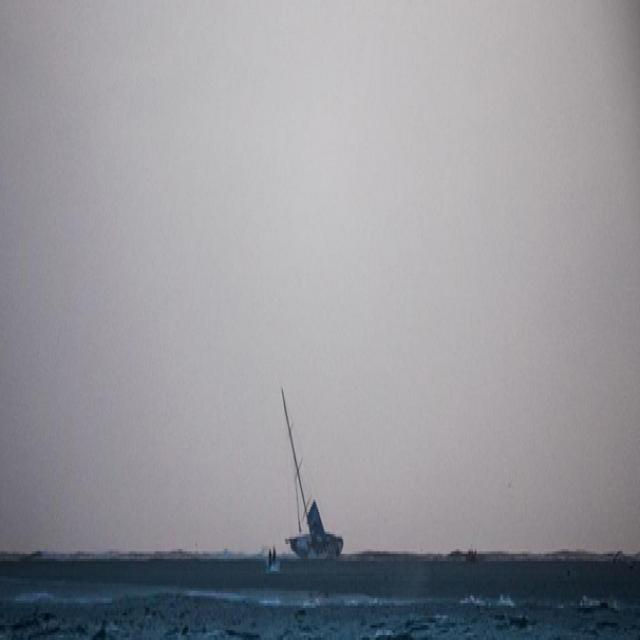sailboat: (274, 376, 346, 560)
